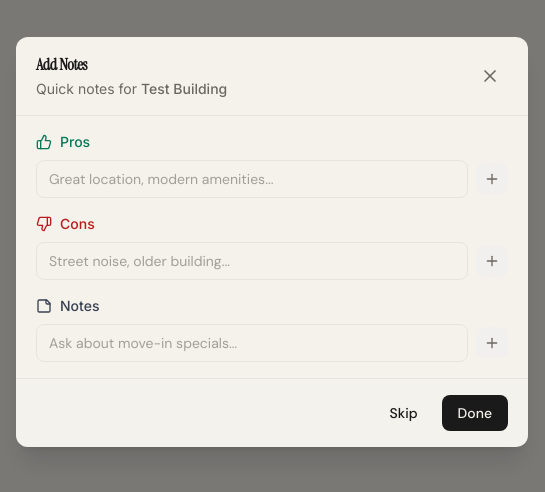
it: QuickAddNotesModal › removes pending note when clicking X
// Add a note first
Type "Nice pool" into the field with placeholder "Great location, modern amenities...".
click(252, 179); type("Nice pool")  # box [36,160,468,198]
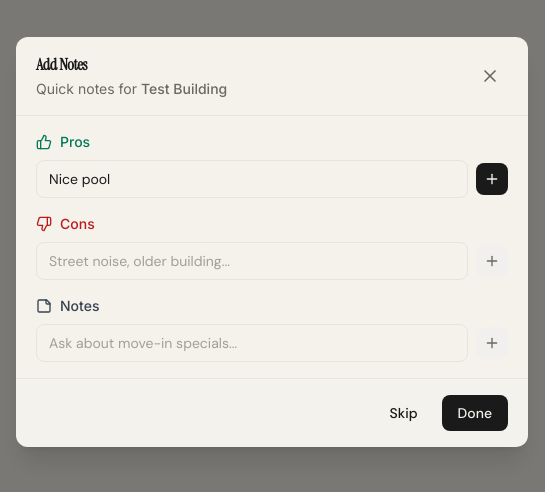
Press Enter in the field with placeholder "Great location, modern amenities...", box [36,160,468,198]
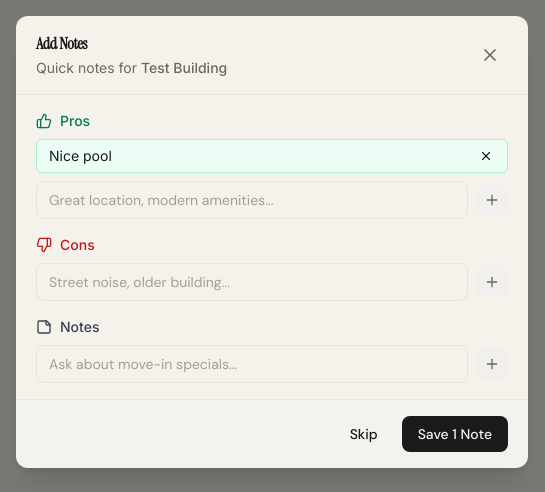
Now the text "Nice pool" is shown, box [49,147,112,164]
// Remove it
Click the button named "Remove".
click(486, 156)  # box [477,147,495,165]
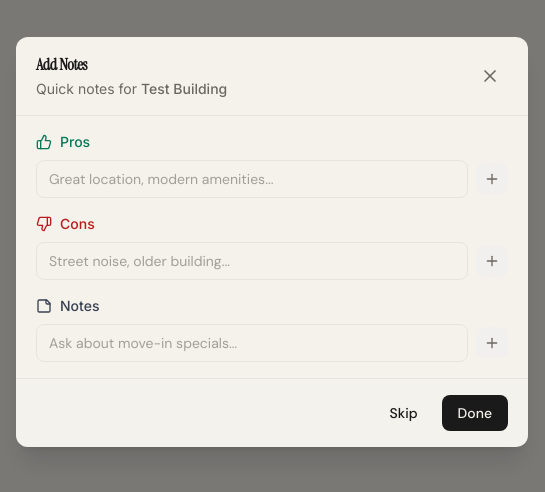
Now the text "Nice pool" is gone
